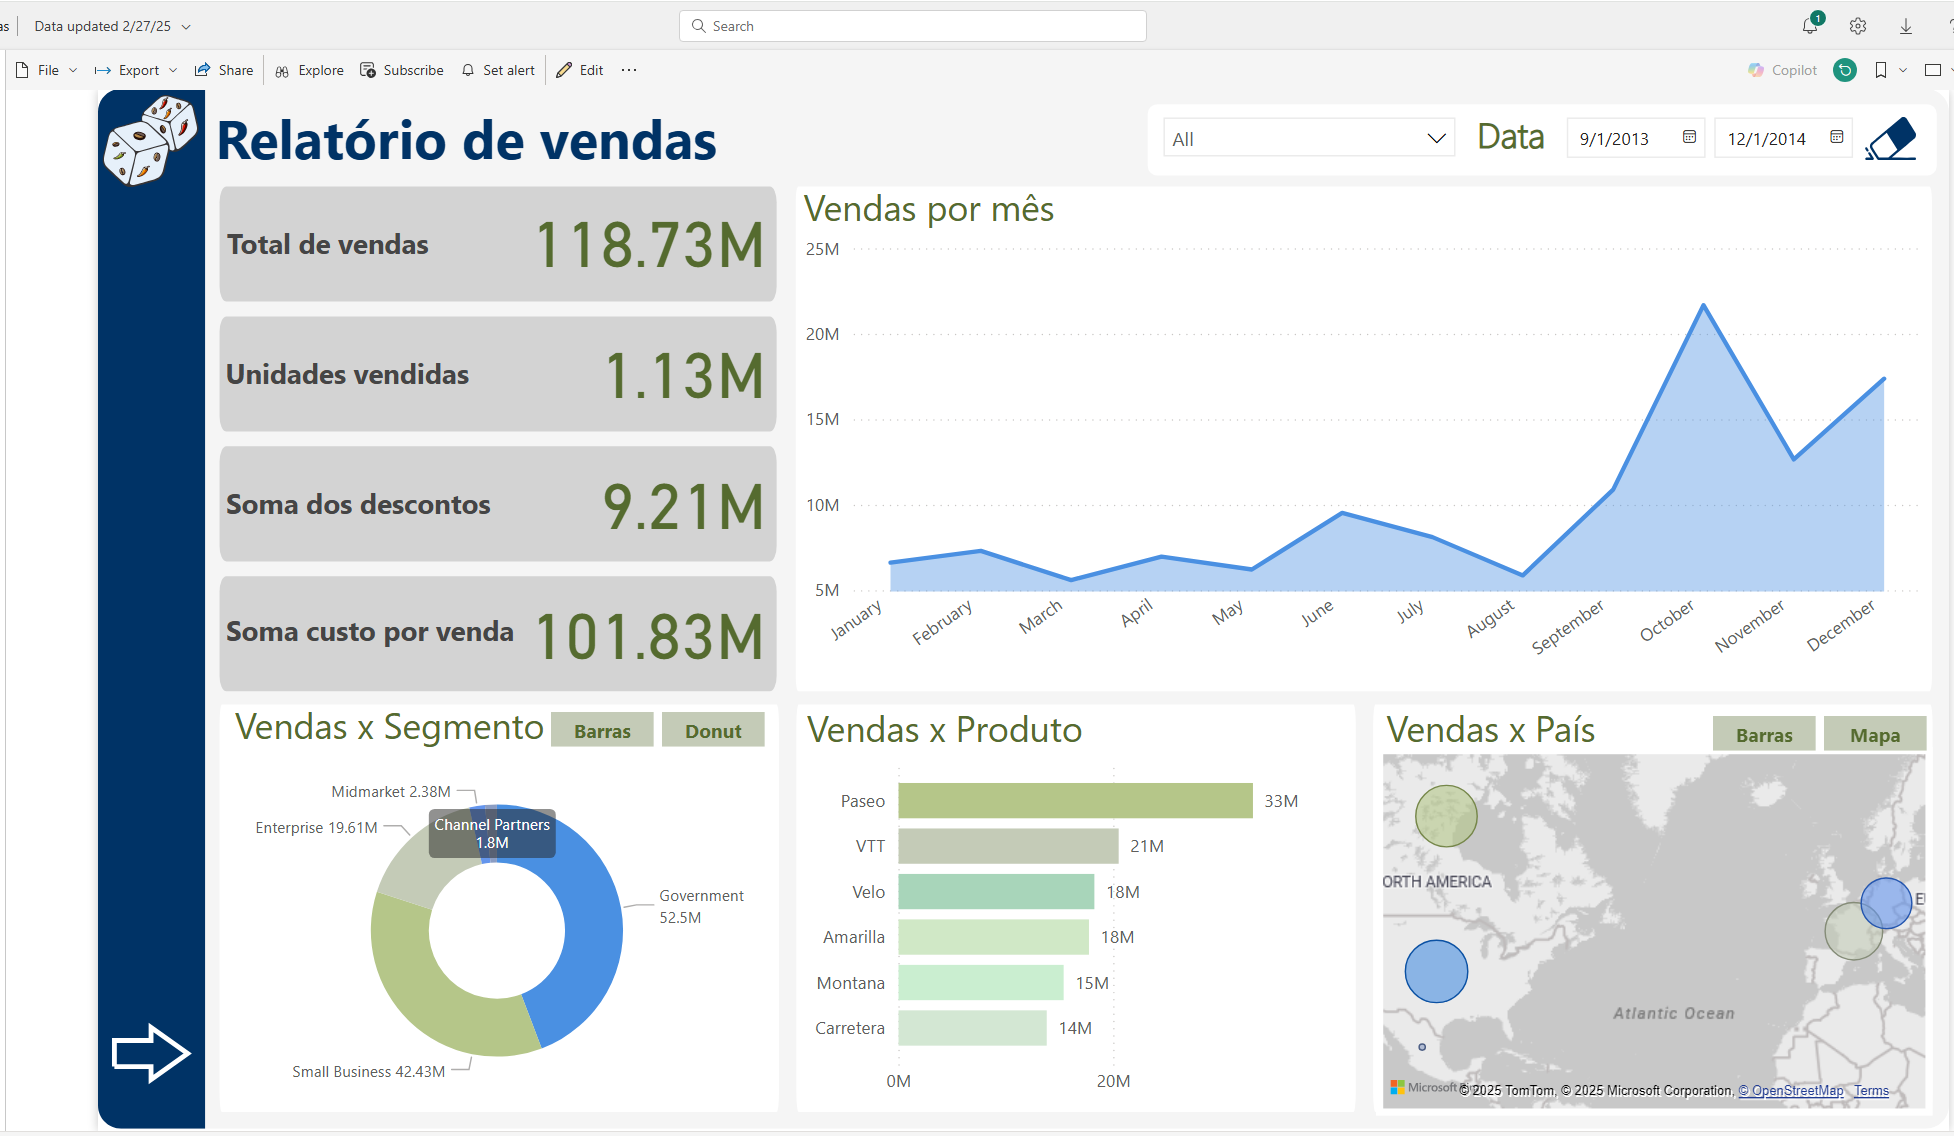

The dashboard page shown, as its layout file describes it:
{"tool":"powerbi","page":{"name":"Page 1","canvas":[1280,720],"ordinal":0},"visuals":[{"type":"slicer","title":"Filtro data","fields":{"Values":["financials.Date"]},"box":[1003.1,8.8,224.9,42.4],"z":0,"group":"g1"},{"type":"areaChart","fields":{"Category":["financials.Date.Variation.Date Hierarchy.Month"],"Y":["Sum(financials. Sales)"]},"box":[484.2,95.3,781.2,318.5],"z":0},{"type":"donutChart","title":"Donut - Sum of  Sales by Segment","fields":{"Y":["Sum(financials. Sales)"],"Category":["financials.Segment"]},"box":[90.5,459.5,370.6,244.2],"z":0,"group":"g3"},{"type":"actionButton","title":"Donut","box":[389.8,430.1,71.3,24],"z":250,"group":"g3"},{"type":"actionButton","title":"Barras","box":[313.4,430.1,71.3,24],"z":500,"group":"g3"},{"type":"textbox","title":"Data","box":[948.6,8.8,72,44],"z":1000,"group":"g1"},{"type":"map","title":"Map - Sum of  Sales by Country","fields":{"Category":["financials.Country"],"Size":["Sum(financials. Sales)"]},"box":[884,453.9,385,255.4],"z":1000,"group":"g2"},{"type":"clusteredBarChart","fields":{"Y":["Sum(financials. Sales)"],"Category":["financials.Product"]},"box":[485.4,454,378.2,249.6],"z":1000},{"type":"actionButton","title":"Mapa","box":[1193.8,432.7,71.3,24],"z":1250,"group":"g2"},{"type":"actionButton","title":"Barras","box":[1117.4,432.7,71.3,24],"z":1500,"group":"g2"},{"type":"actionButton","title":"Limpar filtros","box":[1219.2,8.8,46.4,47.2],"z":2000,"group":"g1"},{"type":"actionButton","box":[7.2,641.2,59.2,52],"z":2000},{"type":"group","id":"g1","title":"Filtros","box":[726.9,8.8,538.7,47.2],"z":3000},{"type":"slicer","title":"Filtro país","fields":{"Values":["financials.Country"]},"box":[726.9,8.8,221.7,41.6],"z":3000,"group":"g1"},{"type":"card","fields":{"Values":["Sum(financials. Sales)"]},"box":[292.7,70.4,176,62.7],"z":4062},{"type":"card","fields":{"Values":["Sum(financials.Units Sold)"]},"box":[340,161.4,128.8,61.8],"z":4125},{"type":"card","fields":{"Values":["Sum(financials.Discounts)"]},"box":[340,251.5,128.8,61.8],"z":4250},{"type":"card","fields":{"Values":["Sum(financials.COGS)"]},"box":[291.9,341.7,176.8,61.8],"z":4500},{"type":"group","id":"g2","title":"Vendas x País","box":[884,432.7,385,276.5],"z":5000},{"type":"group","id":"g3","title":"Vendas x segmento","box":[90.5,430.1,371.2,273.5],"z":7000}]}

Visuals, with their boxes on the page's 1280x720 design canvas (x1, y1, x2, y2). These are canvas units, not pixel positions in the 1954x1136 screenshot, which may show the page scaled, cropped or inside an application window:
"Filtro data" slicer: rect(1003, 9, 1228, 51)
areaChart - financials.Date.Variation.Date Hierarchy.Month x Sum(financials. Sales): rect(484, 95, 1265, 414)
"Donut - Sum of  Sales by Segment" donutChart: rect(90, 460, 461, 704)
"Donut" actionButton: rect(390, 430, 461, 454)
"Barras" actionButton: rect(313, 430, 385, 454)
"Data" textbox: rect(949, 9, 1021, 53)
"Map - Sum of  Sales by Country" map: rect(884, 454, 1269, 709)
clusteredBarChart - Sum(financials. Sales) x financials.Product: rect(485, 454, 864, 704)
"Mapa" actionButton: rect(1194, 433, 1265, 457)
"Barras" actionButton: rect(1117, 433, 1189, 457)
"Limpar filtros" actionButton: rect(1219, 9, 1266, 56)
actionButton: rect(7, 641, 66, 693)
"Filtros" group: rect(727, 9, 1266, 56)
"Filtro país" slicer: rect(727, 9, 949, 50)
card - Sum(financials. Sales): rect(293, 70, 469, 133)
card - Sum(financials.Units Sold): rect(340, 161, 469, 223)
card - Sum(financials.Discounts): rect(340, 252, 469, 313)
card - Sum(financials.COGS): rect(292, 342, 469, 404)
"Vendas x País" group: rect(884, 433, 1269, 709)
"Vendas x segmento" group: rect(90, 430, 462, 704)
